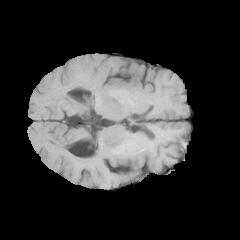glioma: (77, 132, 157, 173)
